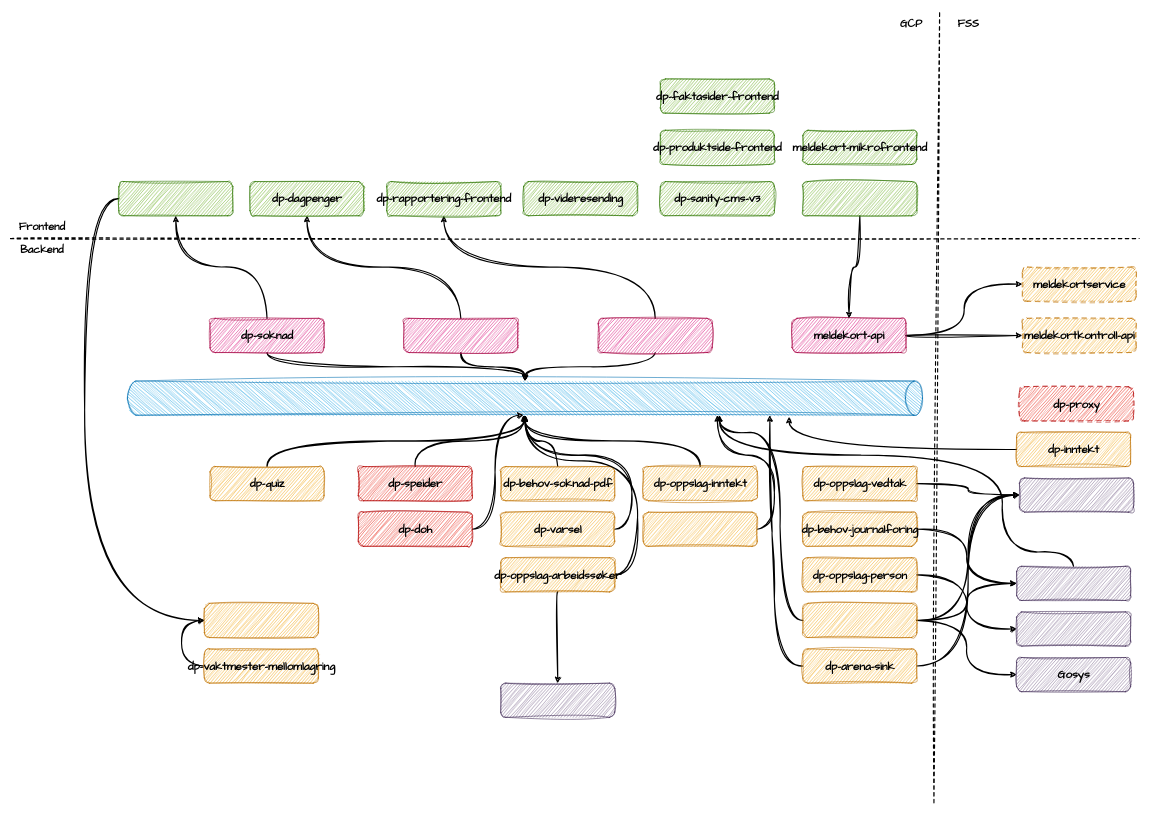
Some shapes in this 1150 by 813 pixel diagram are drawn without their labels. The shapes that lost their labels are listed below. From the top down, each one's centre as x and y in pixels, then its label:
At (x=175, y=198): "dp-soknadsdialog".
At (x=859, y=198): "meldekort".
At (x=460, y=335): "dp-innsyn".
At (x=655, y=335): "dp-rapportering".
At (x=525, y=397): "Rapid".
At (x=1076, y=494): "Arena".
At (x=700, y=529): "dagpenger-joark-mottak".
At (x=1073, y=583): "Joark".
At (x=261, y=620): "dp-mellomlagring".
At (x=859, y=620): "dp-mottak".
At (x=1073, y=628): "PDL".
At (x=557, y=700): "Arbeidssøker-register".
